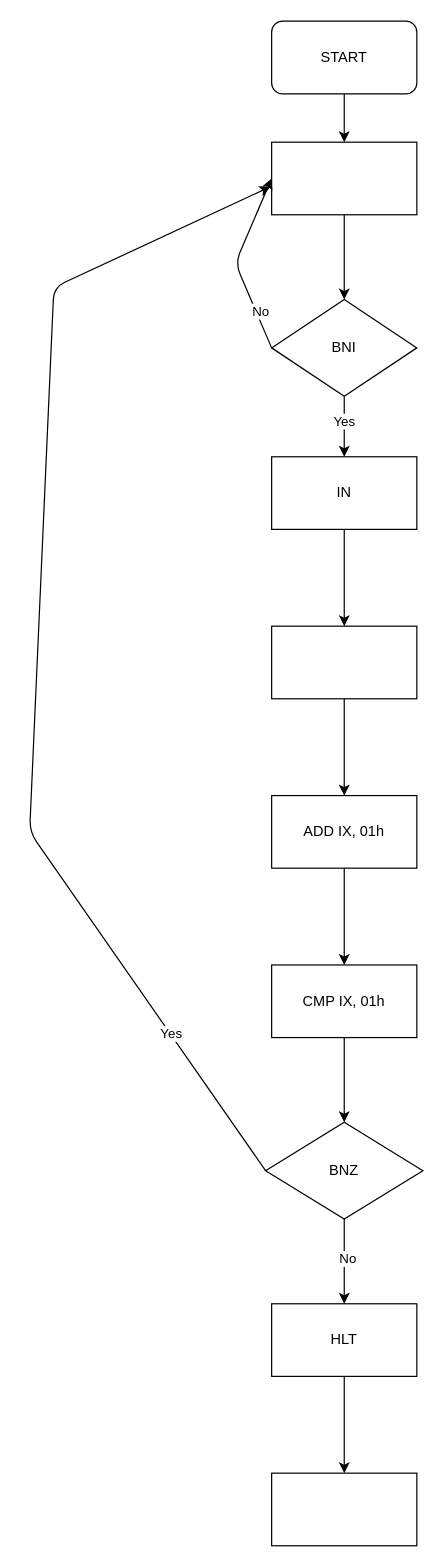
Some shapes in this 444 by 1567 pixel diagram are drawn without their labels. The shapes that lost their labels are listed below. From the top down, each one's box as (x1, y1, x2, y2) in pixels, then its label:
(270, 141, 417, 215): LD IX, 00h
(270, 625, 417, 699): ST ACC, (IX +00h)
(270, 1472, 417, 1546): END
